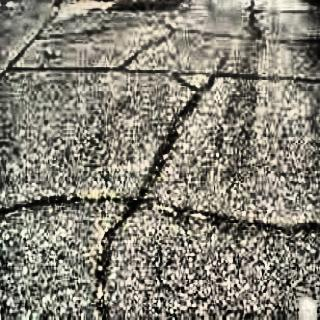alligator-crack: (1, 1, 320, 310)
